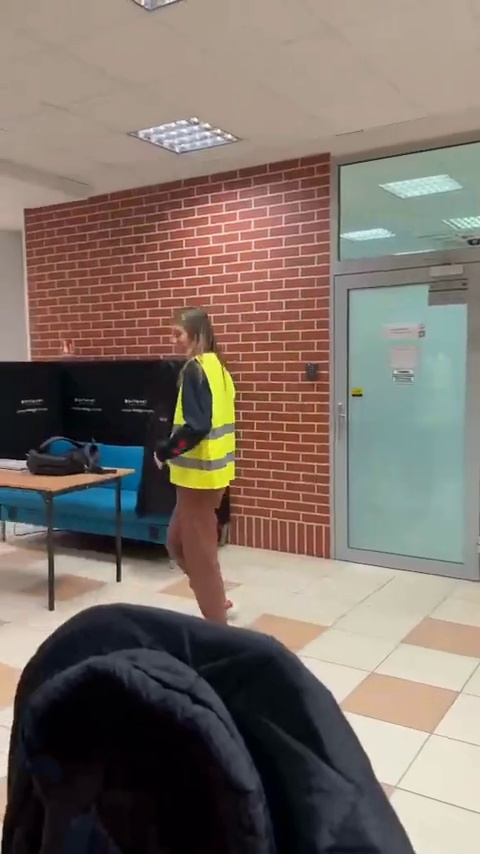vest: (151, 309, 250, 621)
